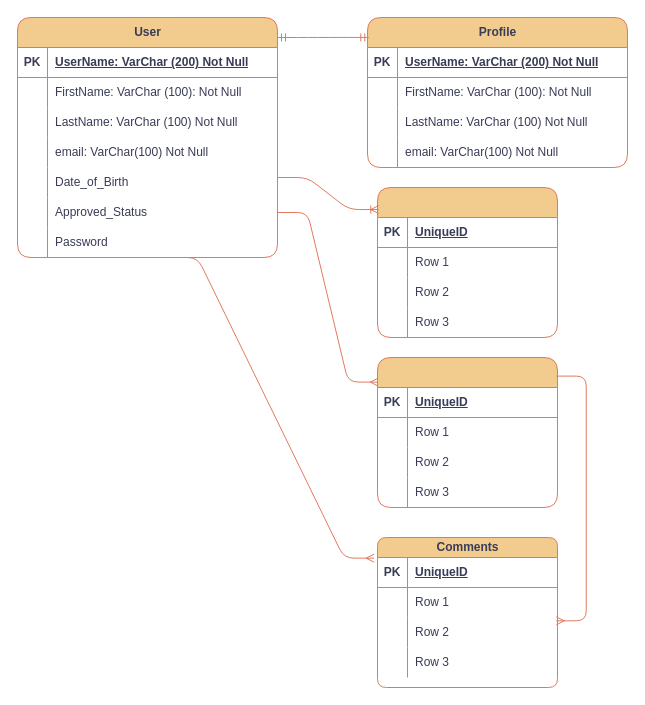
This 645x705 diagram has some shape labels left out. Here are the shapes that lost their labels. From the top down, the box of each, then its label:
(376, 186, 558, 338): Friendships
(376, 356, 558, 508): Posts
